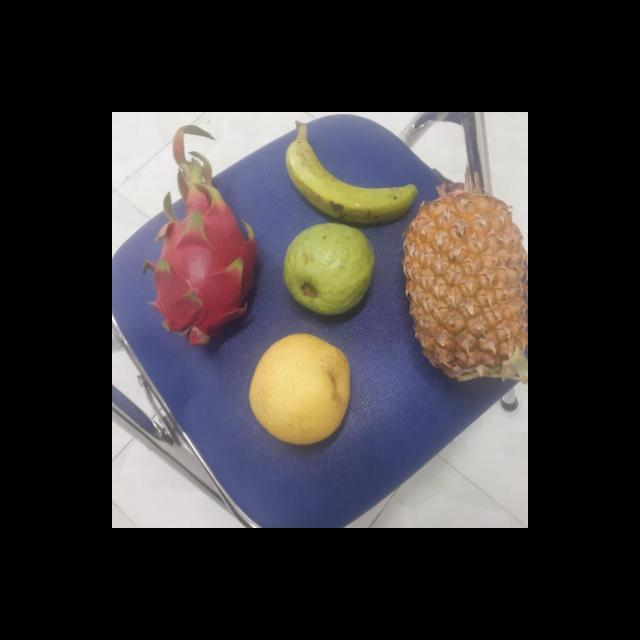banana: (286, 124, 419, 225)
guava: (283, 224, 379, 315)
pear: (246, 334, 356, 446)
pineapple: (403, 198, 528, 384)
pitaya: (152, 186, 264, 347)
